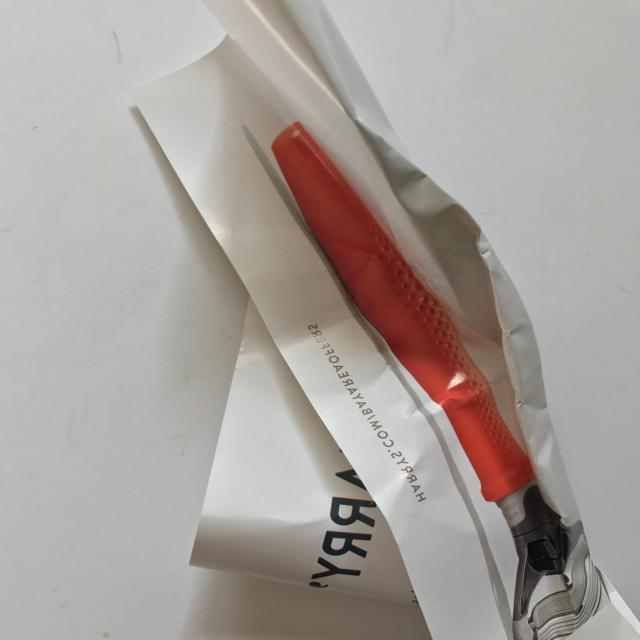paper: (105, 1, 640, 640)
